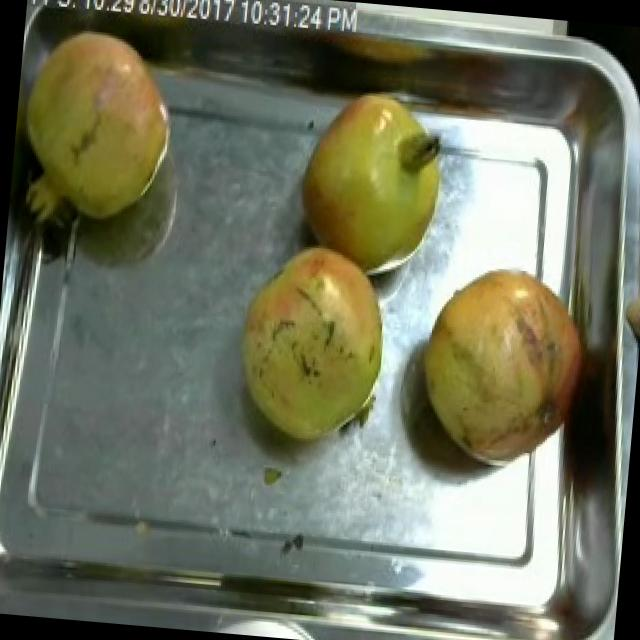fruit: (406, 247, 602, 482), (221, 226, 399, 457), (7, 16, 187, 237), (288, 80, 456, 284)
